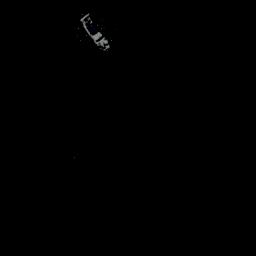boat: (69, 10, 120, 56)
